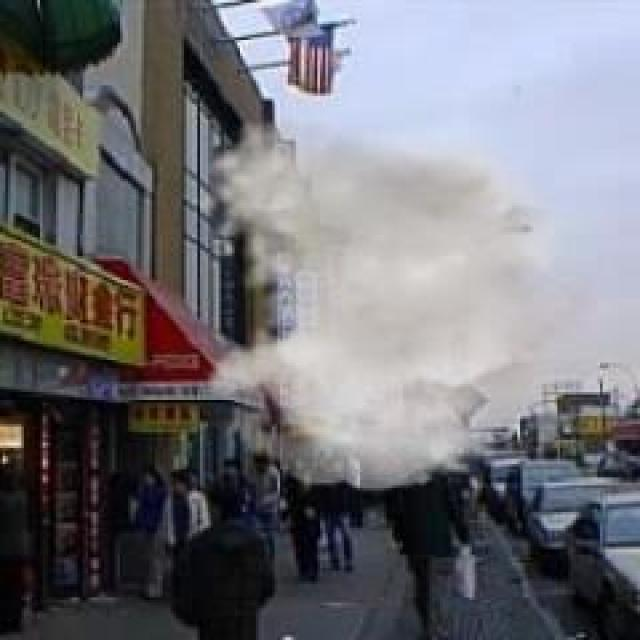smoke: (193, 116, 620, 492)
